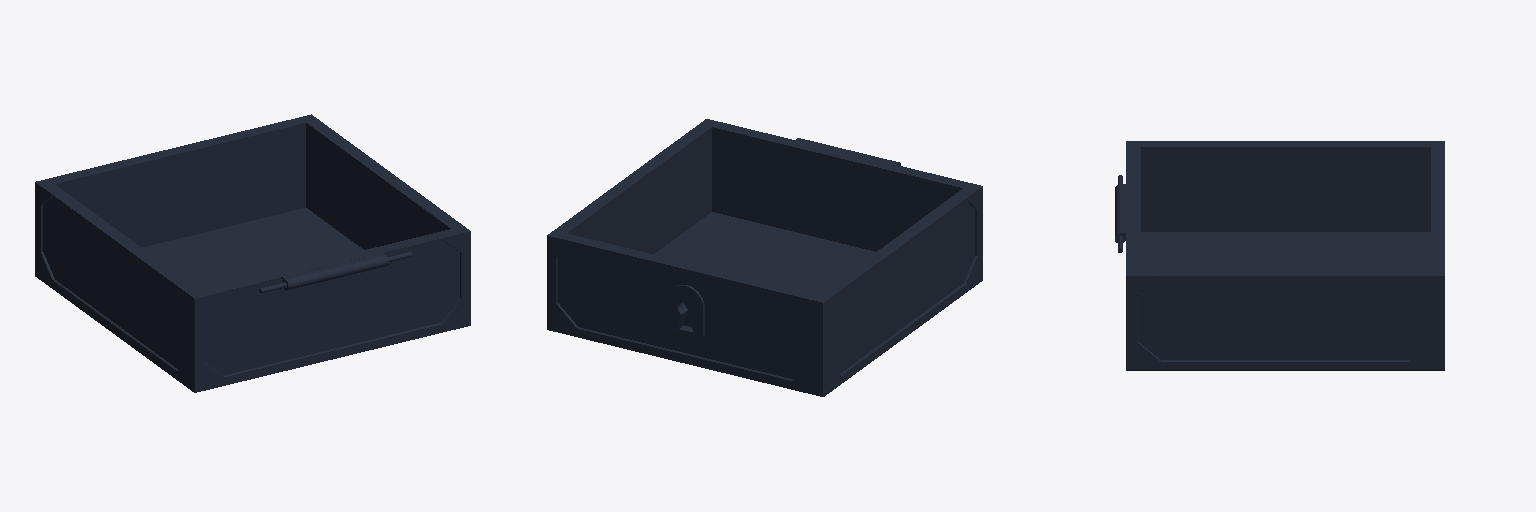
The model's file is closed-box_base.obj.
The picture shows the model from 3 angles: view 1: azimuth 30°, elevation 25°; view 2: azimuth 150°, elevation 25°; view 3: azimuth 270°, elevation 25°; orthographic projection.
Visible parts, largest first — view 1: base-boite; view 2: base-boite; view 3: base-boite.
Part boxes in pixels (x1,y1,x2,y2): base-boite: (35, 114, 470, 392); base-boite: (547, 119, 982, 396); base-boite: (1115, 141, 1444, 370).
Bounding box in the file's own units: 550 × 180 × 570.